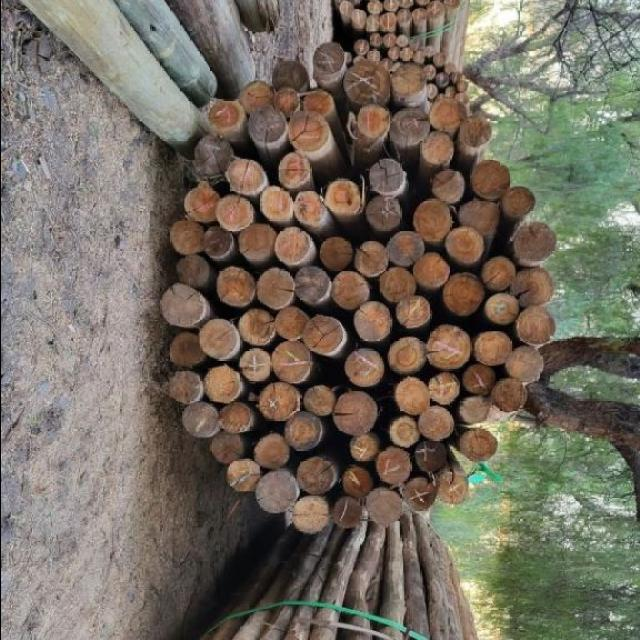package: (161, 39, 553, 531), (330, 0, 468, 36)
